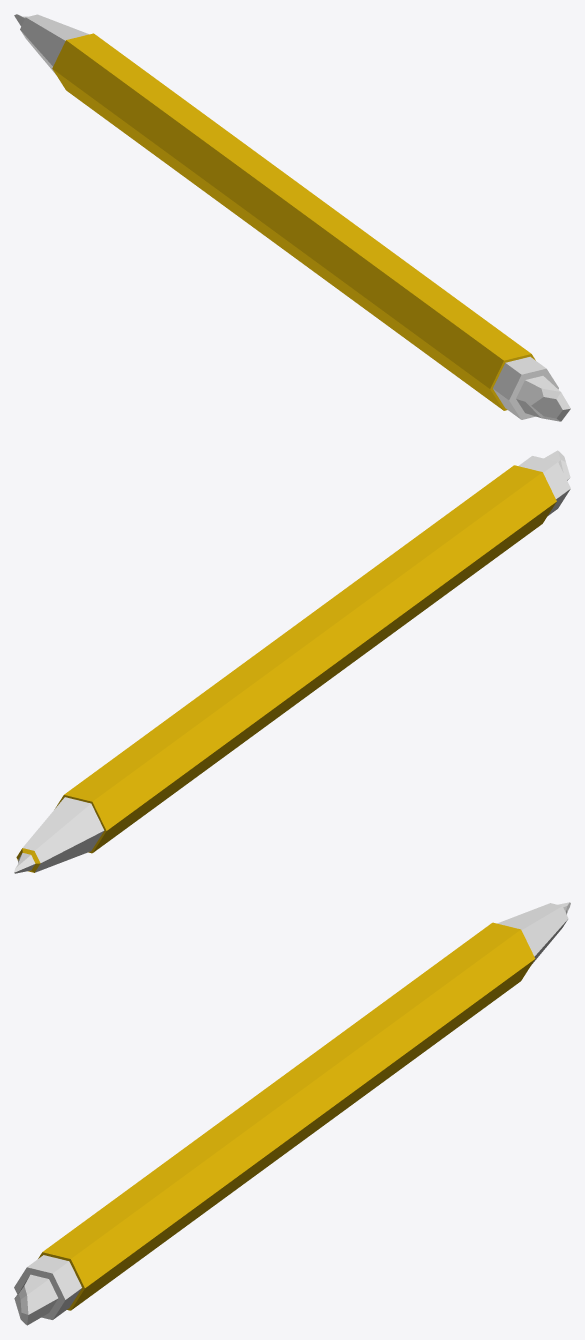
Rendered from Pencil.fbx.
3 renders of one model, top to bottom at view 1: azimuth 30°, elevation 25°; view 2: azimuth 150°, elevation 25°; view 3: azimuth 330°, elevation 25°, orthographic. The views are drawn at different scales.
Parts seen in each view (by area): view 1: Pencil; view 2: Pencil; view 3: Pencil.
Boxes of the visible parts, x1,y1,x2,y2 form: Pencil: (14, 14, 570, 421); Pencil: (14, 450, 570, 873); Pencil: (14, 902, 570, 1325).
Size of the model in its own units: 1.34 by 1.16 by 22.7.
